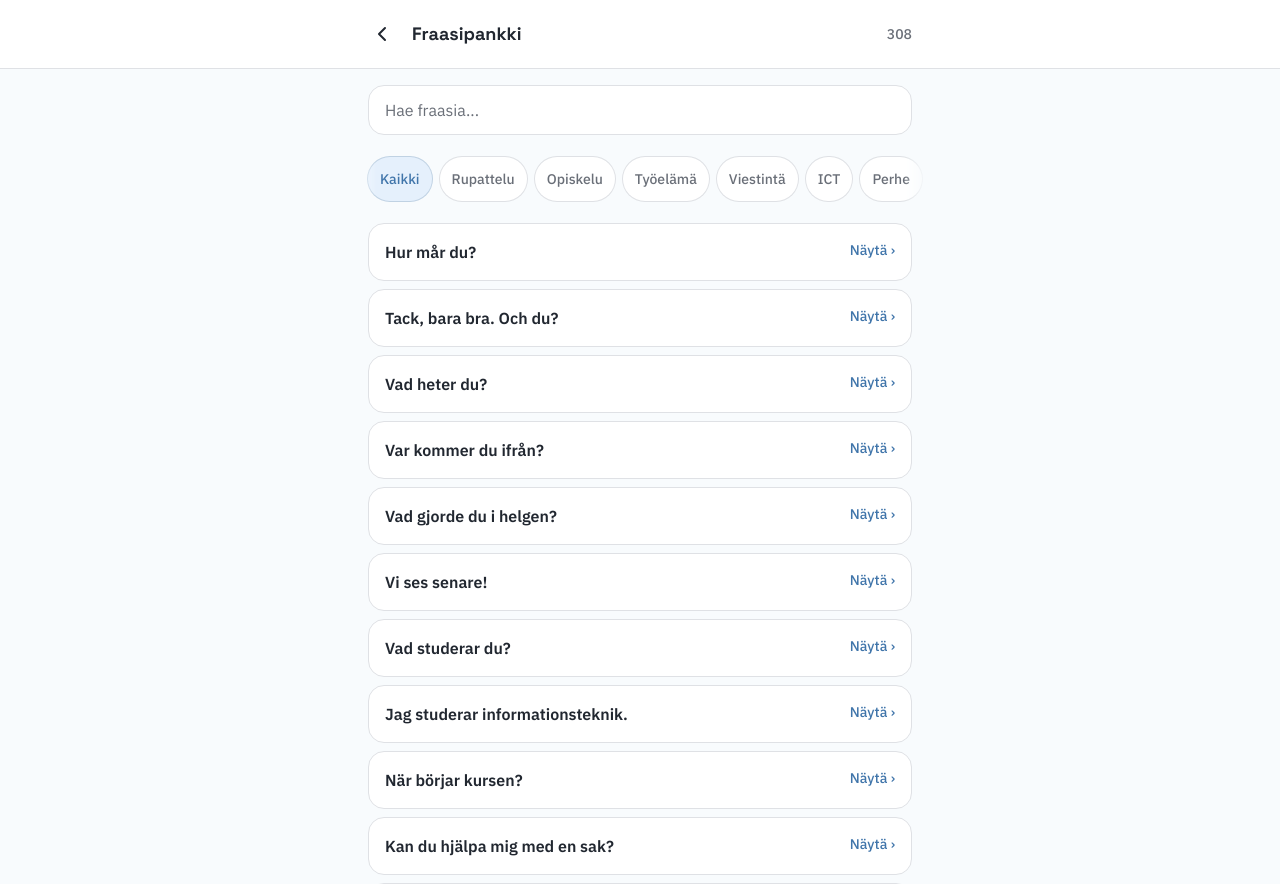
Test: PhraseBank › filters the list by typing in the search box
expect the text "Tack, bara bra. Och du?" is shown: met, box [385,306,558,330]
Type "Hur mår du?" into the search field labelled "Hae fraasia".
click(640, 110); type("Hur mår du?")  # box [368,85,912,135]
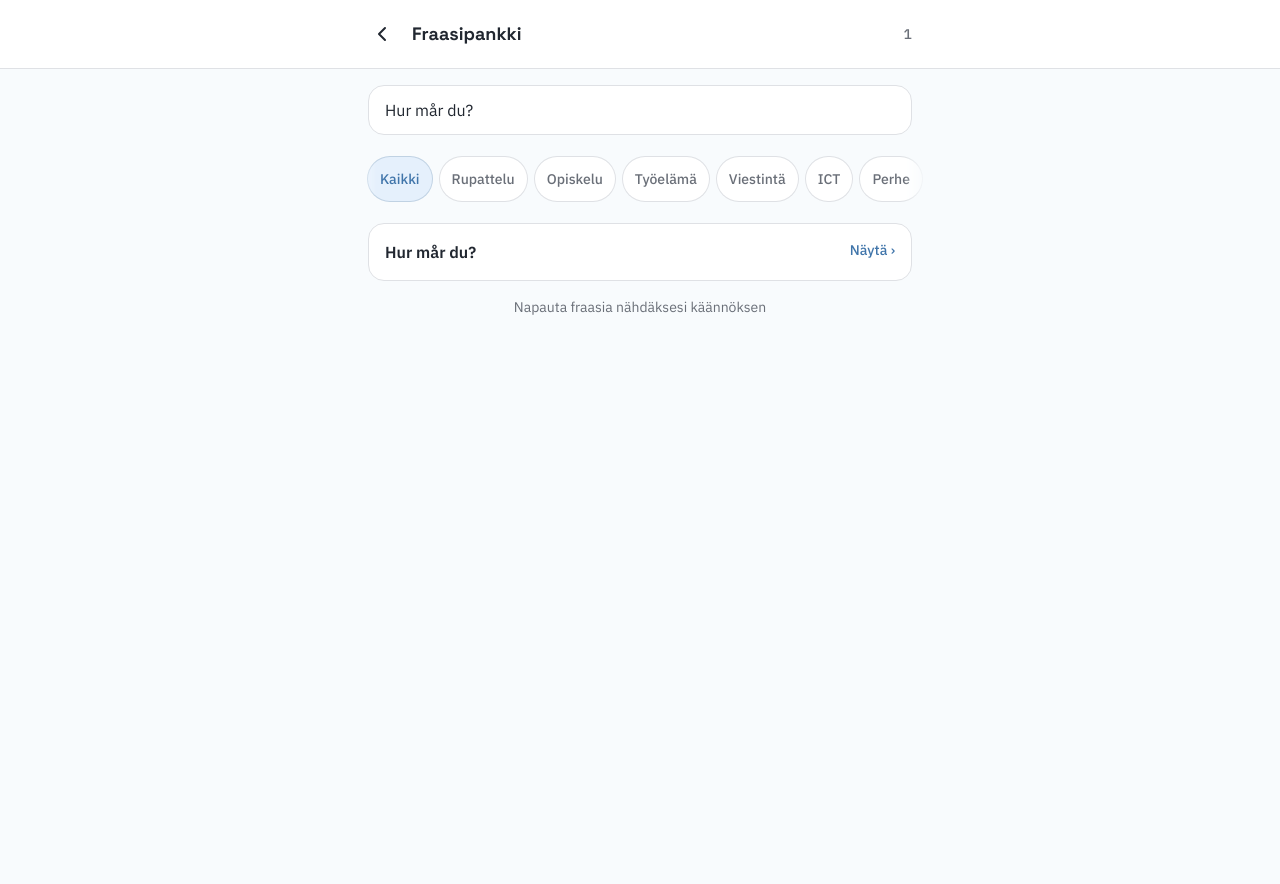
expect the text "Hur mår du?" is shown: met, box [385,240,476,264]
expect the button "Tack, bara bra. Och du?" is gone: met
